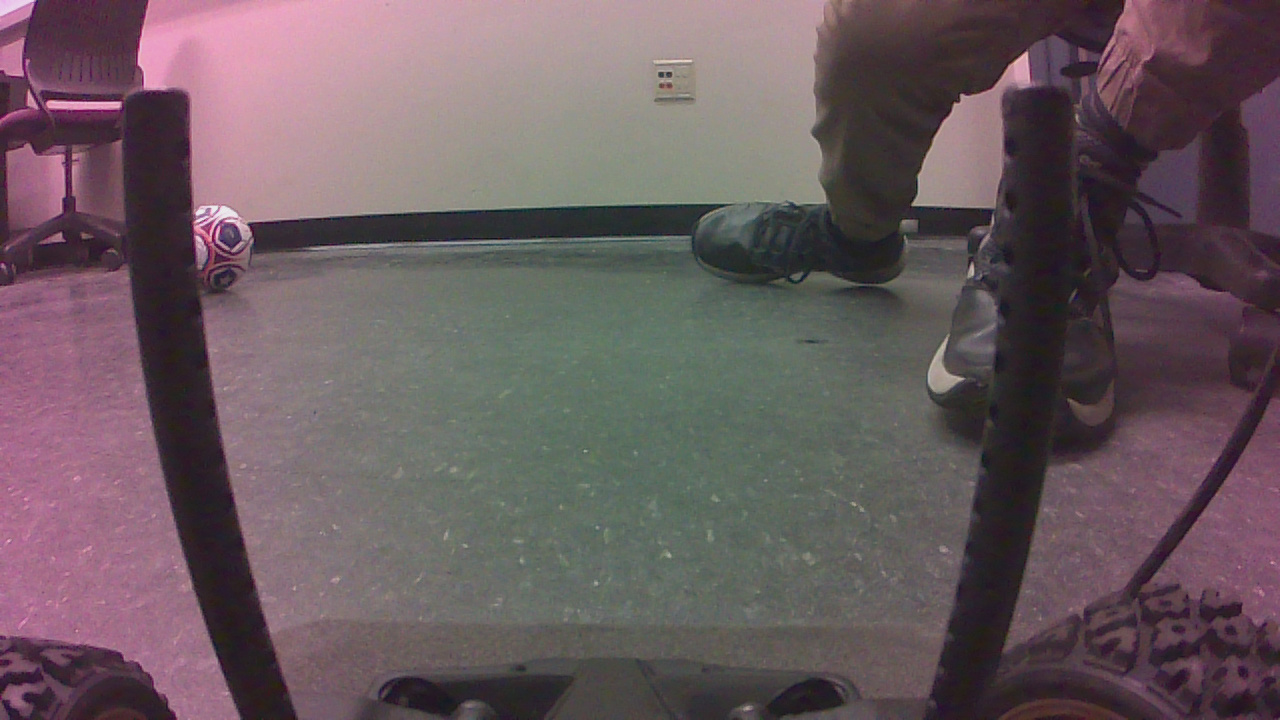ball: (179, 208, 264, 298)
